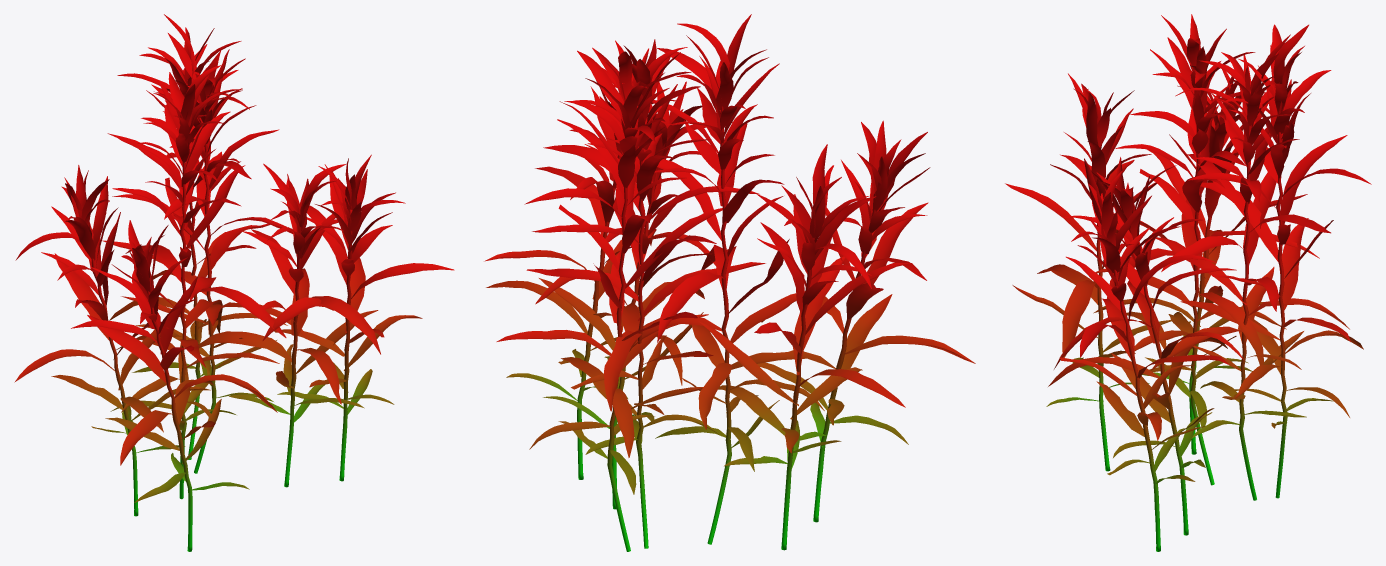
File: Butterfly Weed_LOD0_Var4.fbx
3 views of the same model, side by side, from view 1: azimuth 30°, elevation 25°; view 2: azimuth 150°, elevation 25°; view 3: azimuth 270°, elevation 25° (orthographic). The views are drawn at different scales.
Parts seen in each view (by area): view 1: _e854_Var4_LOD0; view 2: _e854_Var4_LOD0; view 3: _e854_Var4_LOD0.
Part boxes in pixels (x1=…): _e854_Var4_LOD0: x1=14, y1=14, x2=454, y2=551; _e854_Var4_LOD0: x1=484, y1=14, x2=975, y2=551; _e854_Var4_LOD0: x1=1005, y1=14, x2=1371, y2=551.
Bounding box in the file's own units: 67.5 × 75.97 × 52.5.
